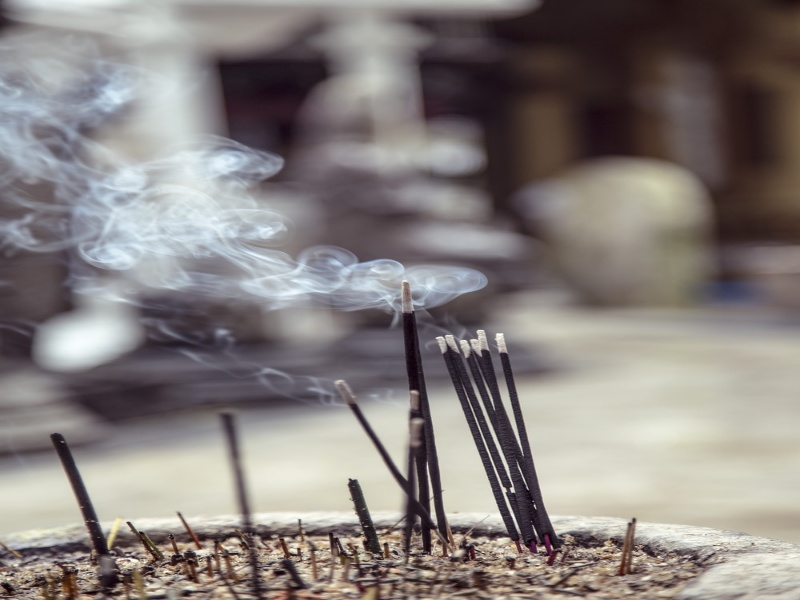smoke: (1, 57, 423, 313)
